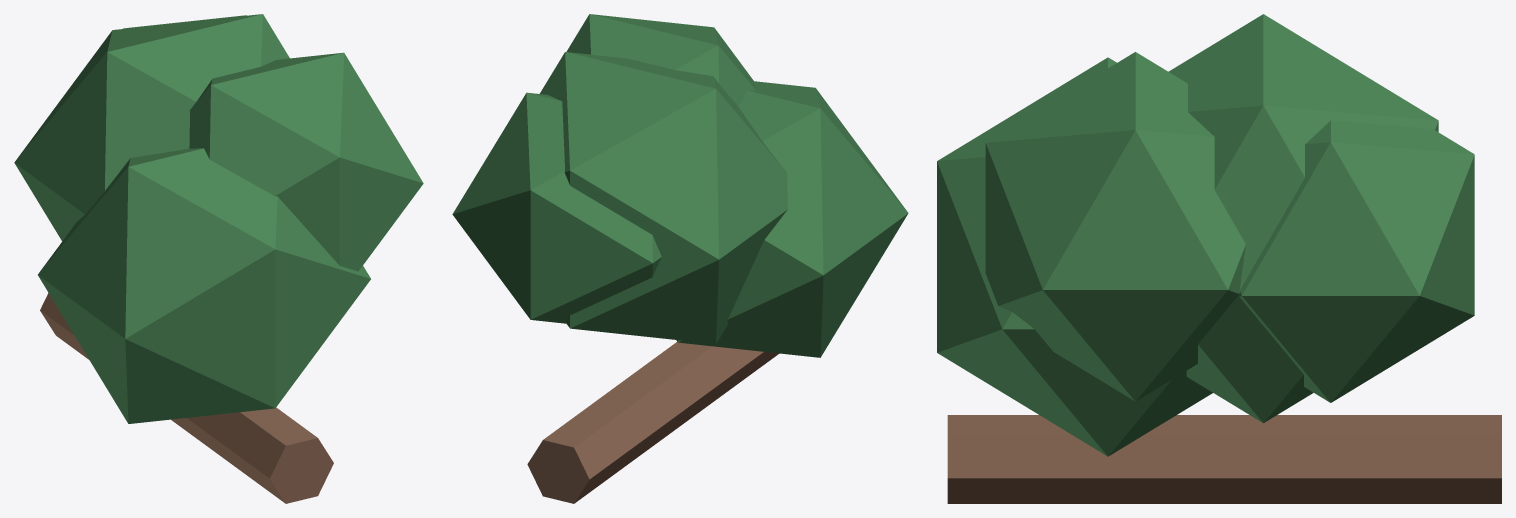
Rendered from tree_s10_10.glb.
3 renders of one model, left to right at view 1: azimuth 30°, elevation 25°; view 2: azimuth 150°, elevation 25°; view 3: azimuth 270°, elevation 25°, orthographic. The views are drawn at different scales.
Parts seen in each view (by area): view 1: geometry_0; view 2: geometry_0; view 3: geometry_0.
Boxes of the visible parts, x1,y1,x2,y2 form: geometry_0: (14, 14, 423, 503); geometry_0: (452, 14, 908, 503); geometry_0: (937, 14, 1501, 503).
Size of the model in its own units: 3.03 by 3.38 by 3.91.
